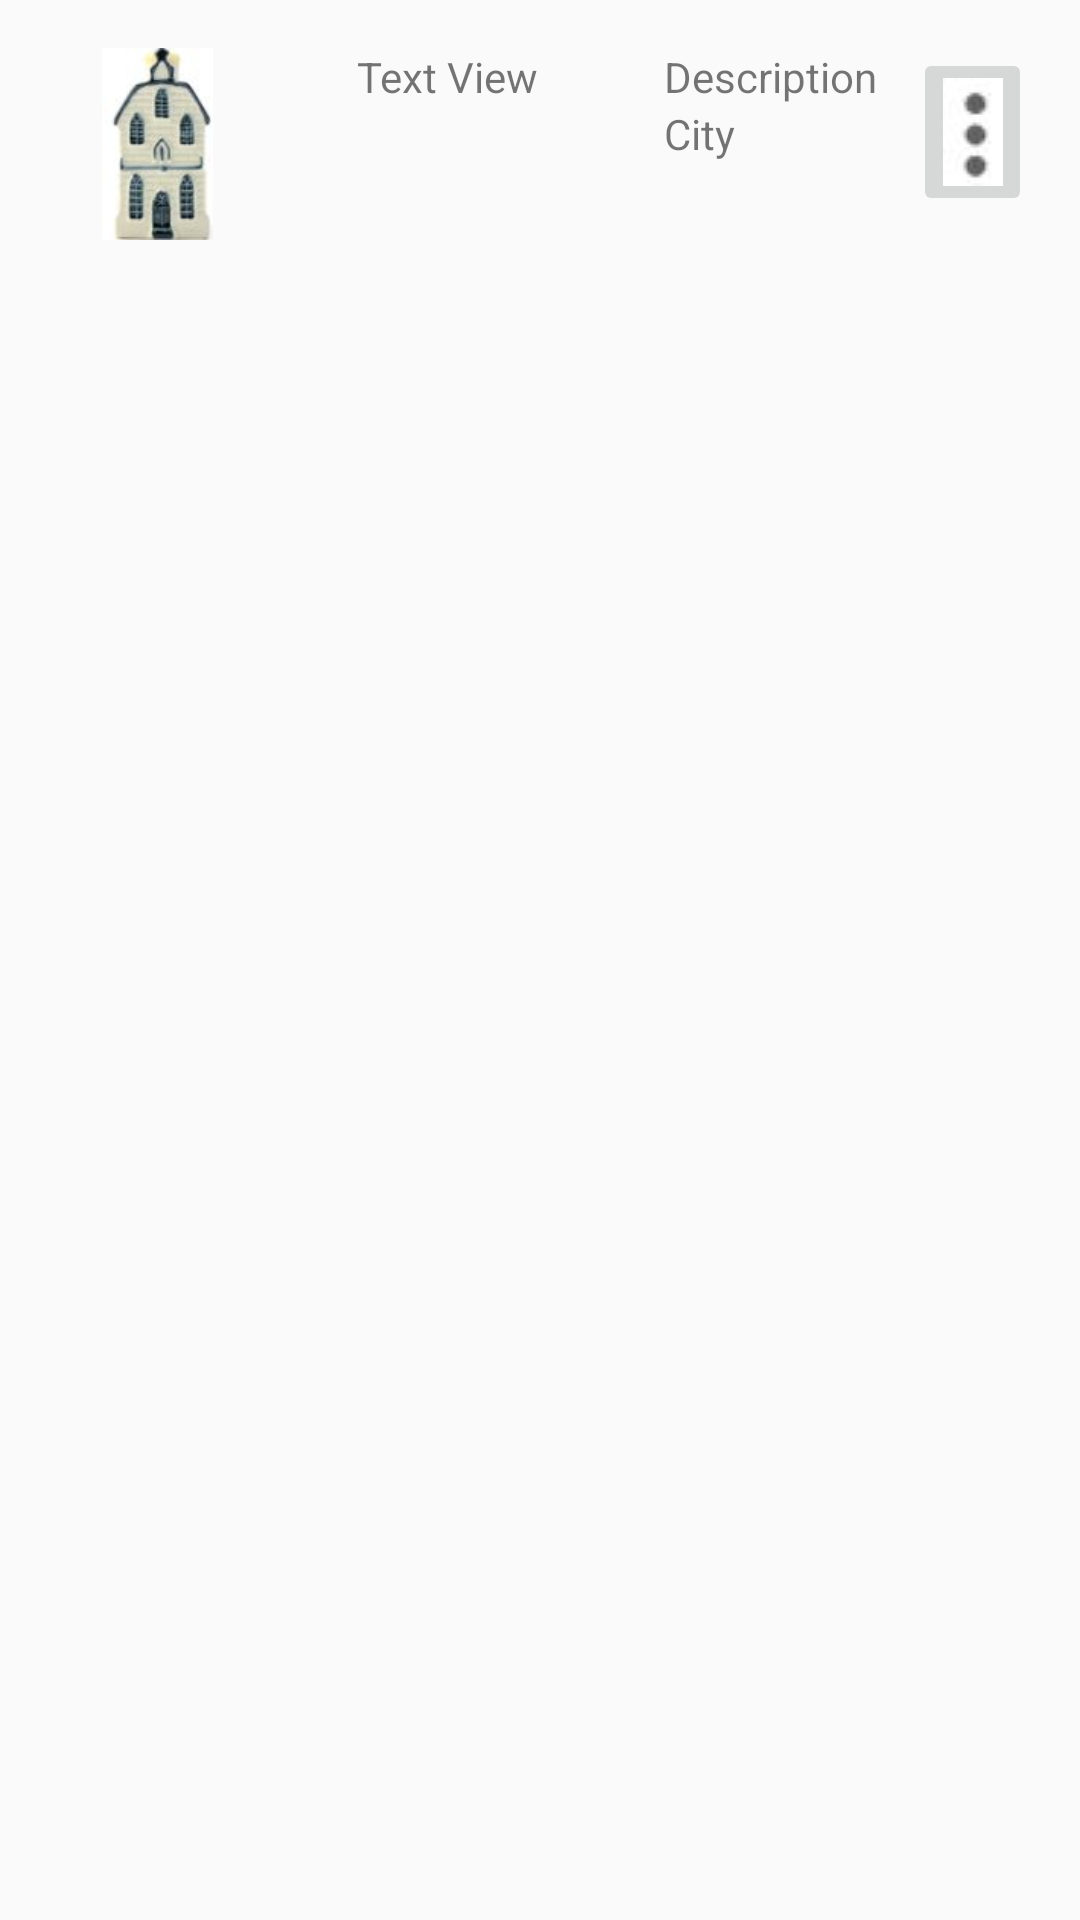

Named icons in this screenshot (1080px×1920px) and their centers, [x,y]:
klmhouseimage: [162,144]
moreoptionsicon: [972,132]
